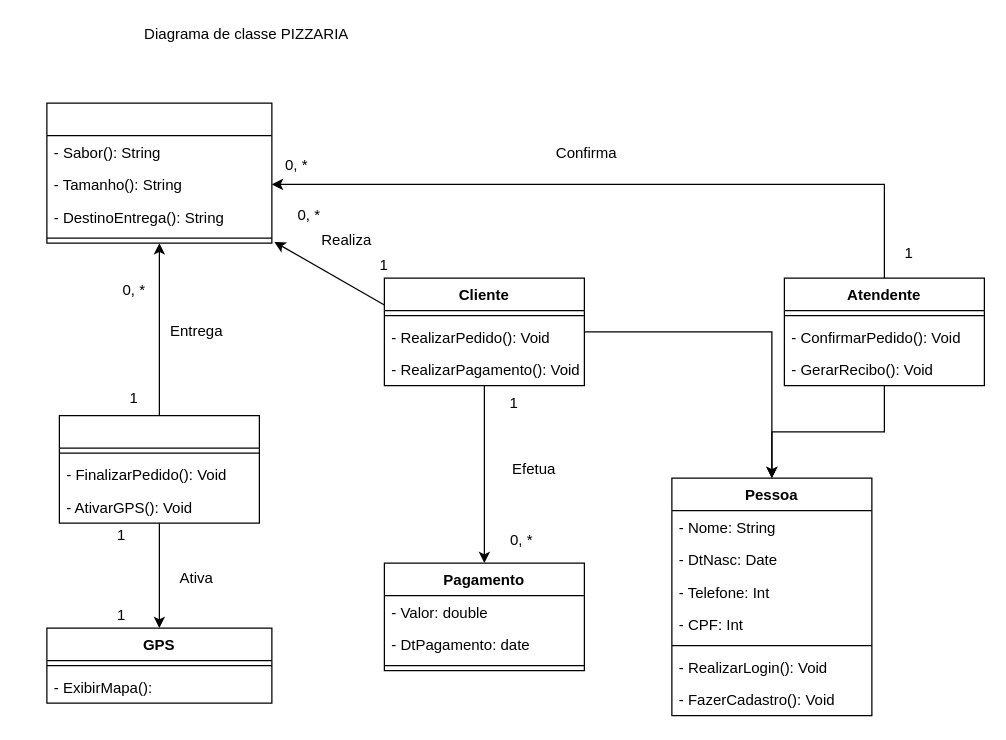
This 1006x740 diagram has some shape labels left out. Each missing label, with the box of its shape:
Entregador: (58, 414, 259, 523)
Pedido: (46, 102, 272, 243)
